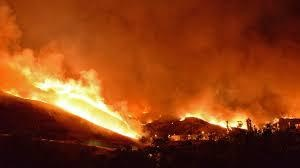fire: (1, 63, 140, 141), (180, 108, 252, 132)
